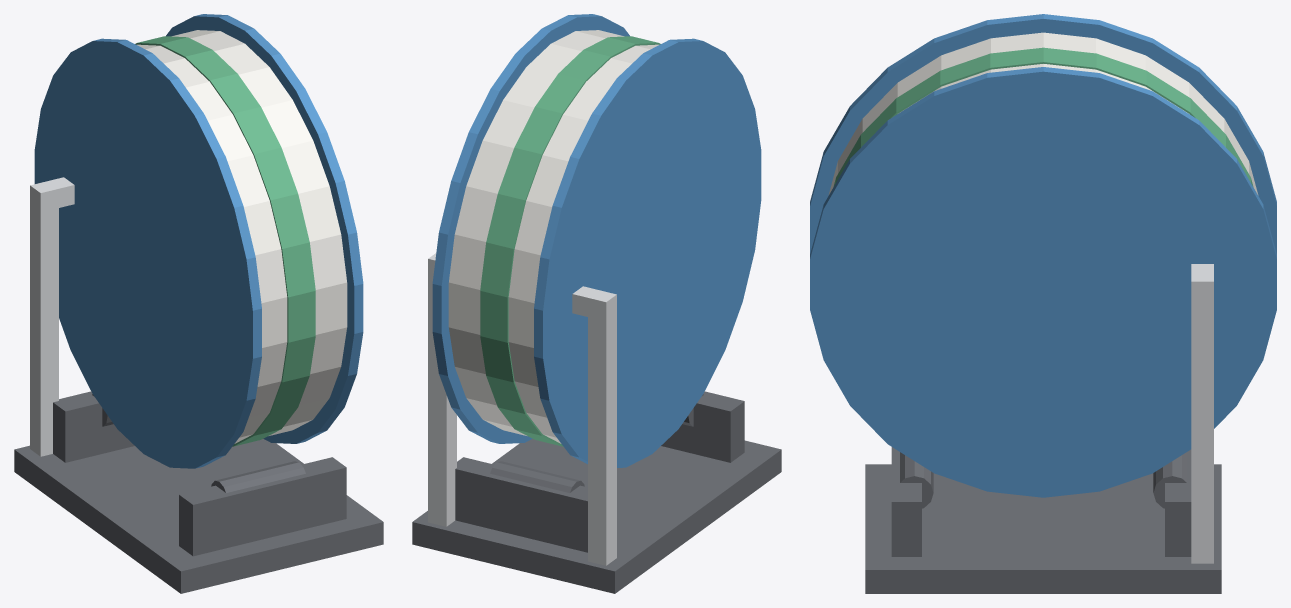
The model's file is boarding-kennels-and-cattery-boarding-kennels-and-catt-ea897187__35555.glb.
The picture shows the model from 3 angles, left to right: view 1: azimuth 30°, elevation 25°; view 2: azimuth 150°, elevation 25°; view 3: azimuth 270°, elevation 25°; orthographic projection. The views are drawn at different scales.
Visible parts, largest first — view 1: drum-spin/blue, boarding-kennels-and-cattery-cat-exercise-wheel, drum-spin/cream, drum-spin/green; view 2: drum-spin/blue, boarding-kennels-and-cattery-cat-exercise-wheel, drum-spin/cream, drum-spin/green; view 3: drum-spin/blue, boarding-kennels-and-cattery-cat-exercise-wheel, drum-spin/cream, drum-spin/green.
Part boxes in pixels (x1=…): drum-spin/blue: x1=34, y1=14, x2=363, y2=468; boarding-kennels-and-cattery-cat-exercise-wheel: x1=14, y1=177, x2=383, y2=593; drum-spin/cream: x1=137, y1=30, x2=347, y2=443; drum-spin/green: x1=135, y1=36, x2=315, y2=446; drum-spin/blue: x1=432, y1=14, x2=761, y2=467; boarding-kennels-and-cattery-cat-exercise-wheel: x1=412, y1=253, x2=781, y2=593; drum-spin/cream: x1=448, y1=30, x2=658, y2=443; drum-spin/green: x1=480, y1=36, x2=660, y2=446; drum-spin/blue: x1=810, y1=14, x2=1276, y2=497; boarding-kennels-and-cattery-cat-exercise-wheel: x1=865, y1=264, x2=1221, y2=593; drum-spin/cream: x1=828, y1=32, x2=1258, y2=195; drum-spin/green: x1=833, y1=47, x2=1253, y2=186.
Bounding box in the file's own units: 0.66 × 1.45 × 1.23.
